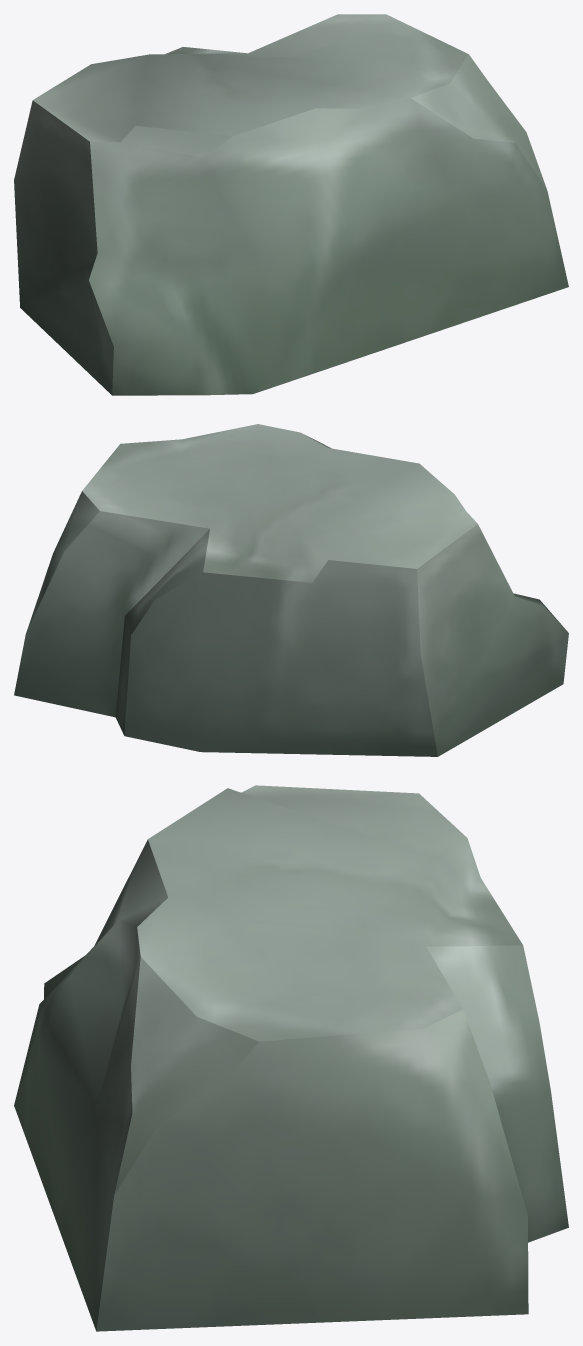
Rendered from field_rocks_ore_001d.fbx.
The picture shows the model from 3 angles, top to bottom: view 1: azimuth 30°, elevation 25°; view 2: azimuth 150°, elevation 25°; view 3: azimuth 270°, elevation 25°; orthographic projection. The views are drawn at different scales.
Visible parts, largest first — view 1: field_rocks_ore_001d; view 2: field_rocks_ore_001d; view 3: field_rocks_ore_001d.
Boxes of the visible parts, x1,y1,x2,y2 form: field_rocks_ore_001d: [14, 14, 568, 395]; field_rocks_ore_001d: [14, 424, 568, 756]; field_rocks_ore_001d: [14, 785, 568, 1331].
Bounding box in the file's own units: 61.39 × 28.19 × 48.42.
